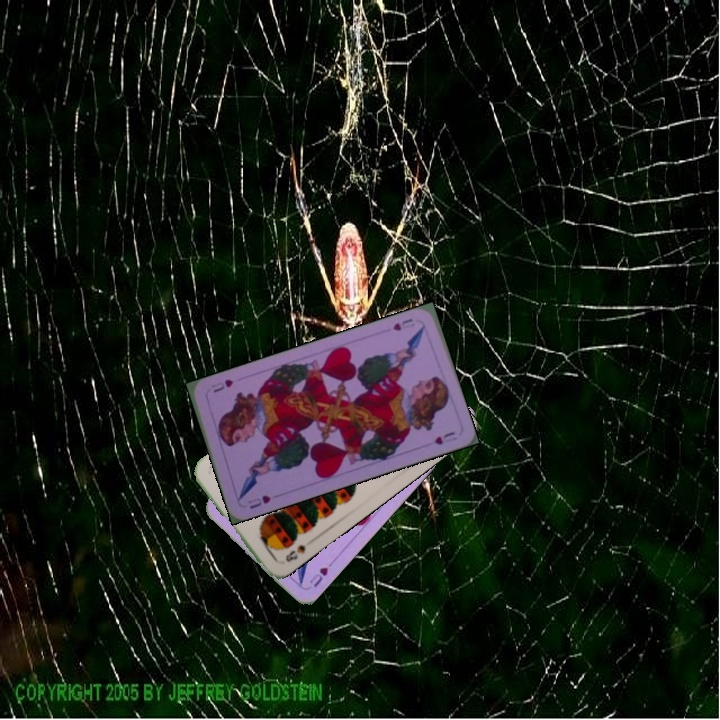HU: (305, 563, 331, 590), (245, 491, 273, 511), (389, 314, 418, 333)
S8: (281, 541, 308, 565)
